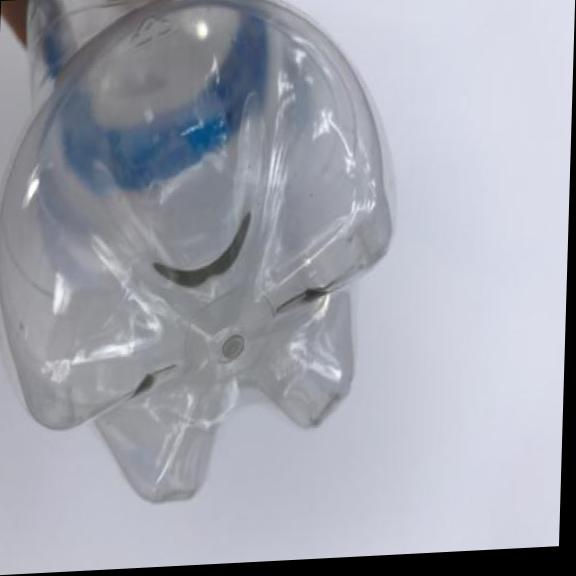Plastik: (0, 0, 402, 518)
